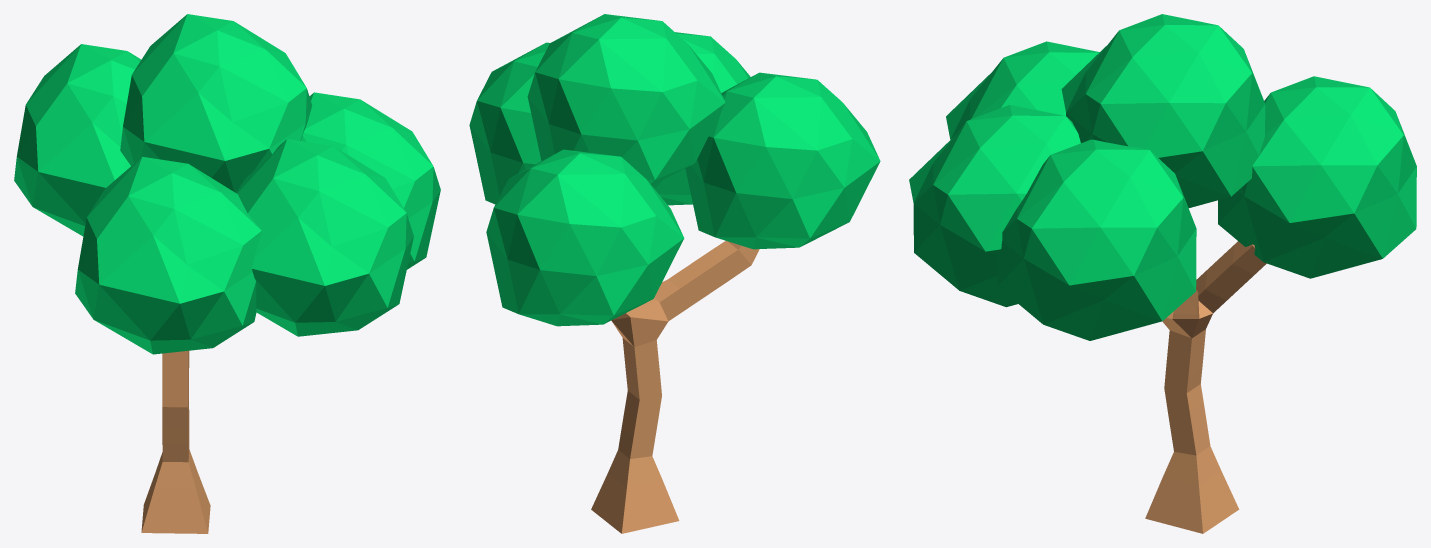
Rendered from tree.fbx.
The picture shows the model from 3 angles, left to right: view 1: azimuth 30°, elevation 25°; view 2: azimuth 150°, elevation 25°; view 3: azimuth 270°, elevation 25°; orthographic projection. The views are drawn at different scales.
Visible parts, largest first — view 1: Plane.006; view 2: Plane.006; view 3: Plane.006.
Boxes of the visible parts, x1,y1,x2,y2 form: Plane.006: [14, 14, 440, 533]; Plane.006: [469, 14, 880, 533]; Plane.006: [909, 14, 1416, 533].
Bounding box in the file's own units: 1716 × 2189 × 2003.
